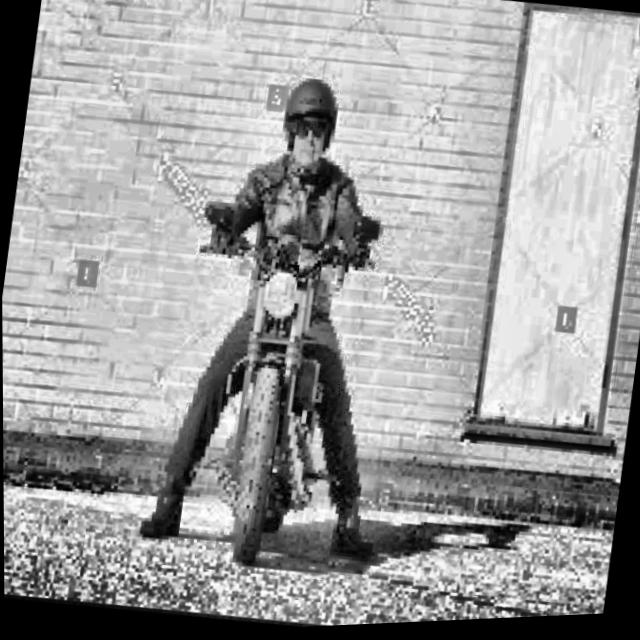motorcycle: (124, 186, 413, 592)
